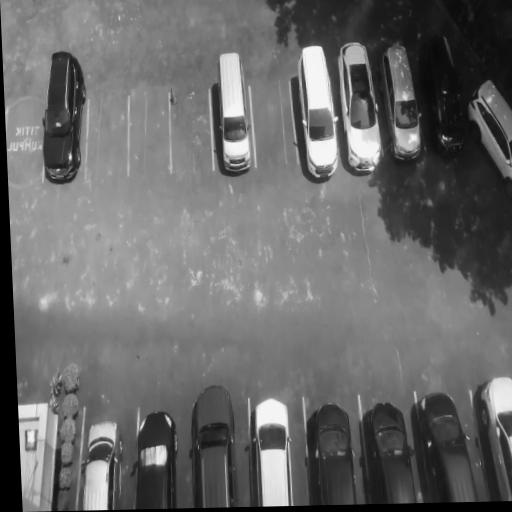Car: (413, 23, 475, 158), (335, 33, 385, 180), (294, 38, 342, 190), (41, 43, 90, 186), (375, 36, 428, 165), (190, 378, 240, 508), (420, 390, 477, 503), (310, 397, 365, 506), (467, 68, 512, 200), (131, 400, 185, 509), (213, 44, 253, 180), (367, 400, 417, 504), (251, 395, 297, 507), (77, 415, 126, 511), (479, 367, 512, 502)
Space Available: (250, 81, 298, 168), (169, 89, 214, 170), (85, 94, 128, 177), (128, 93, 170, 176), (7, 100, 45, 186)
